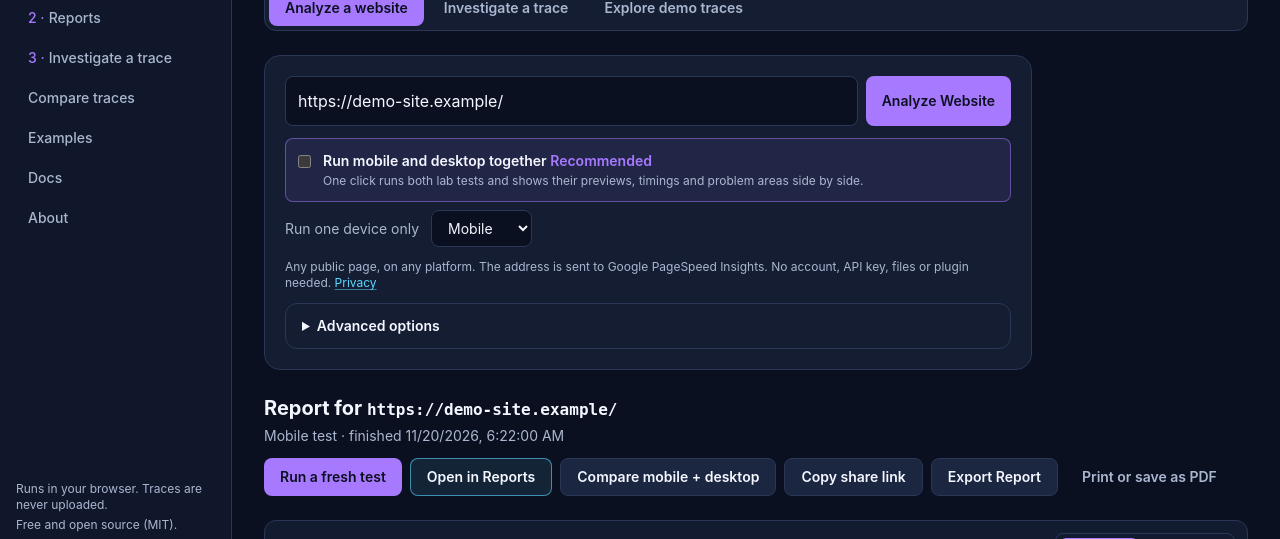
Test: website report › reruns, switches device and offers share and export
Expected: the button "Export Report" is shown, top-left (931, 458), bottom-right (1058, 496)
Expected: the button "Copy share link" is shown, top-left (784, 458), bottom-right (923, 496)
Click the button "Run a fresh test" at point(333, 477), box top-left (264, 458), bottom-right (402, 496)
(page scrolled)
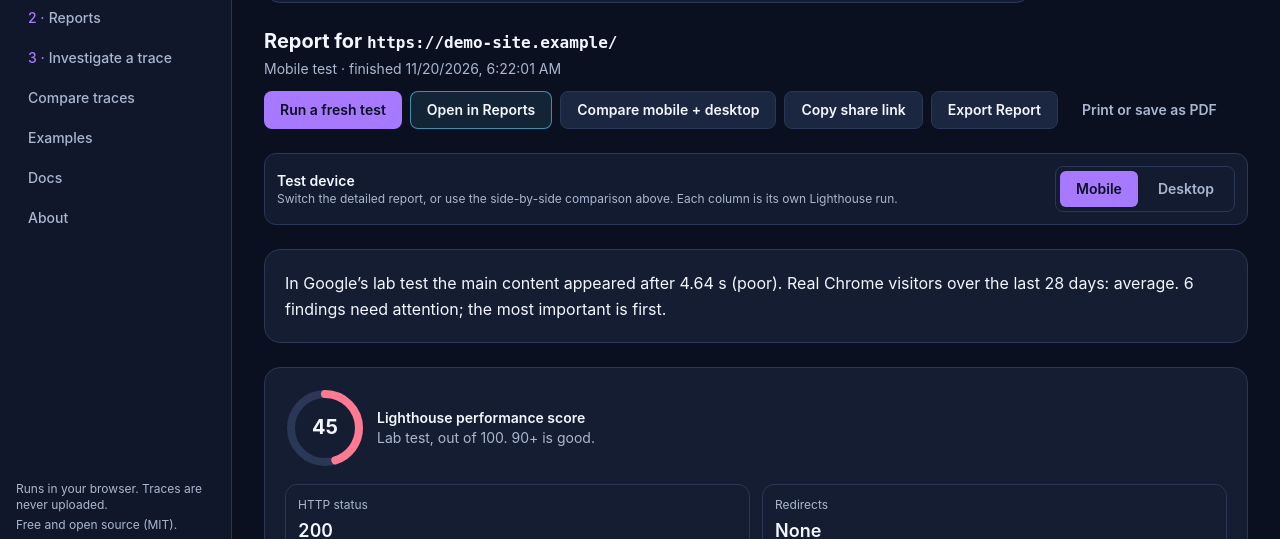
Click the button "desktop" at point(1186, 189), box top-left (1142, 171), bottom-right (1230, 207)
(page scrolled)
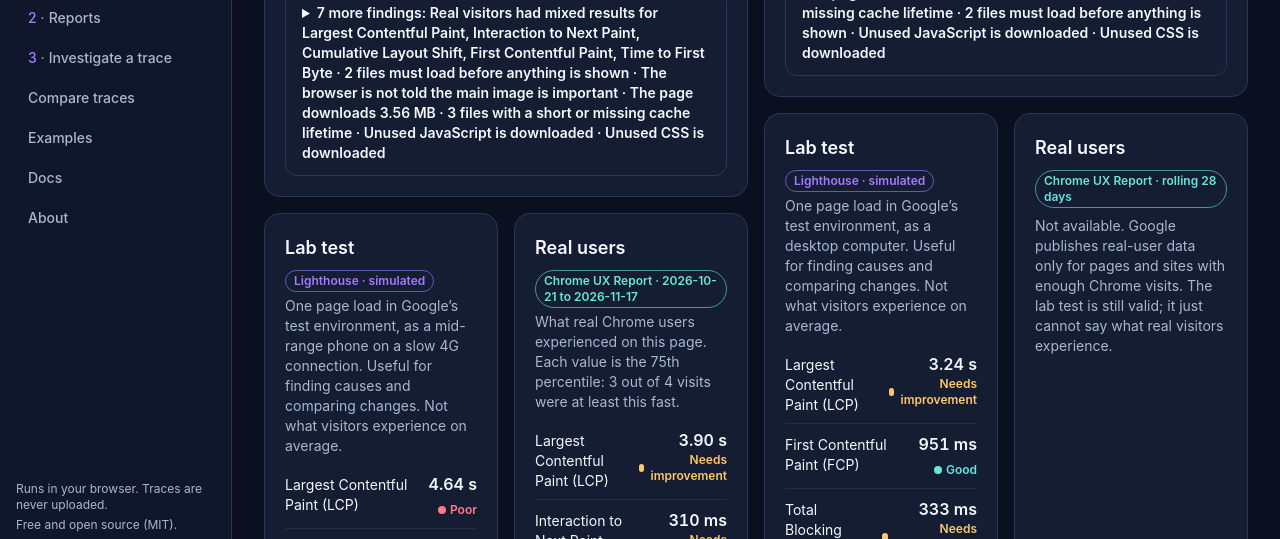
Expected: the text "Chrome UX Report · rolling 28 days" is shown, top-left (1035, 170), bottom-right (1227, 208)
